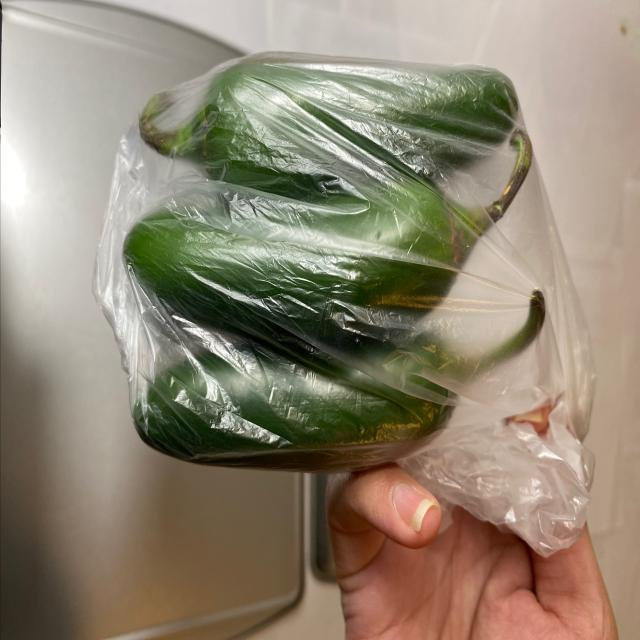chilli: (116, 48, 563, 492)
